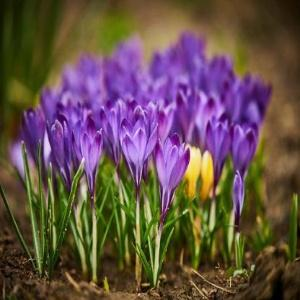Saffron: (149, 139, 192, 209), (119, 116, 159, 188), (73, 125, 110, 186), (47, 116, 78, 181), (229, 120, 260, 181), (23, 107, 50, 175), (203, 118, 232, 180), (232, 170, 247, 218)
